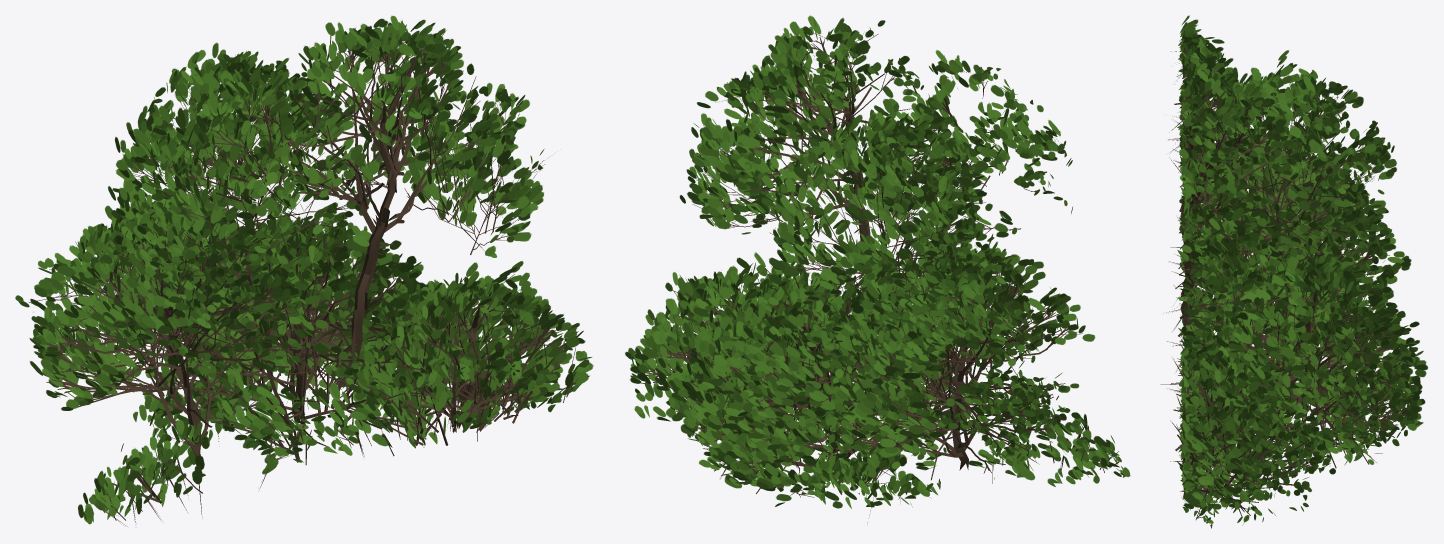
3 renders of one model, left to right at view 1: azimuth 30°, elevation 25°; view 2: azimuth 150°, elevation 25°; view 3: azimuth 270°, elevation 25°, orthographic. The views are drawn at different scales.
Visible parts, largest first — view 1: oak 01.001_trunk_Mat.001_0.256; view 2: oak 01.001_trunk_Mat.001_0.256; view 3: oak 01.001_trunk_Mat.001_0.256.
Boxes of the visible parts, box(x1,y1,x2,y2) form: oak 01.001_trunk_Mat.001_0.256: box(15, 15, 593, 526); oak 01.001_trunk_Mat.001_0.256: box(625, 15, 1130, 522); oak 01.001_trunk_Mat.001_0.256: box(1160, 15, 1427, 528).
Size of the model in its own units: 4.13 by 3.47 by 2.11.
Materials: 2 (1 with a texture image).
